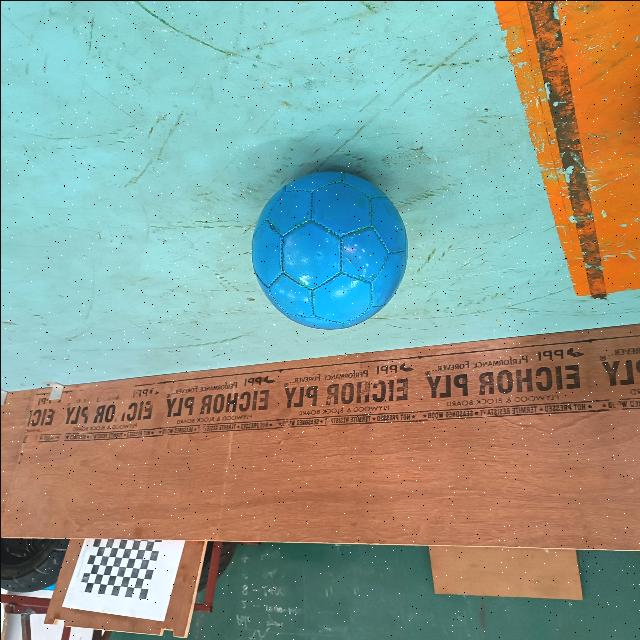B: (246, 166, 412, 334)
